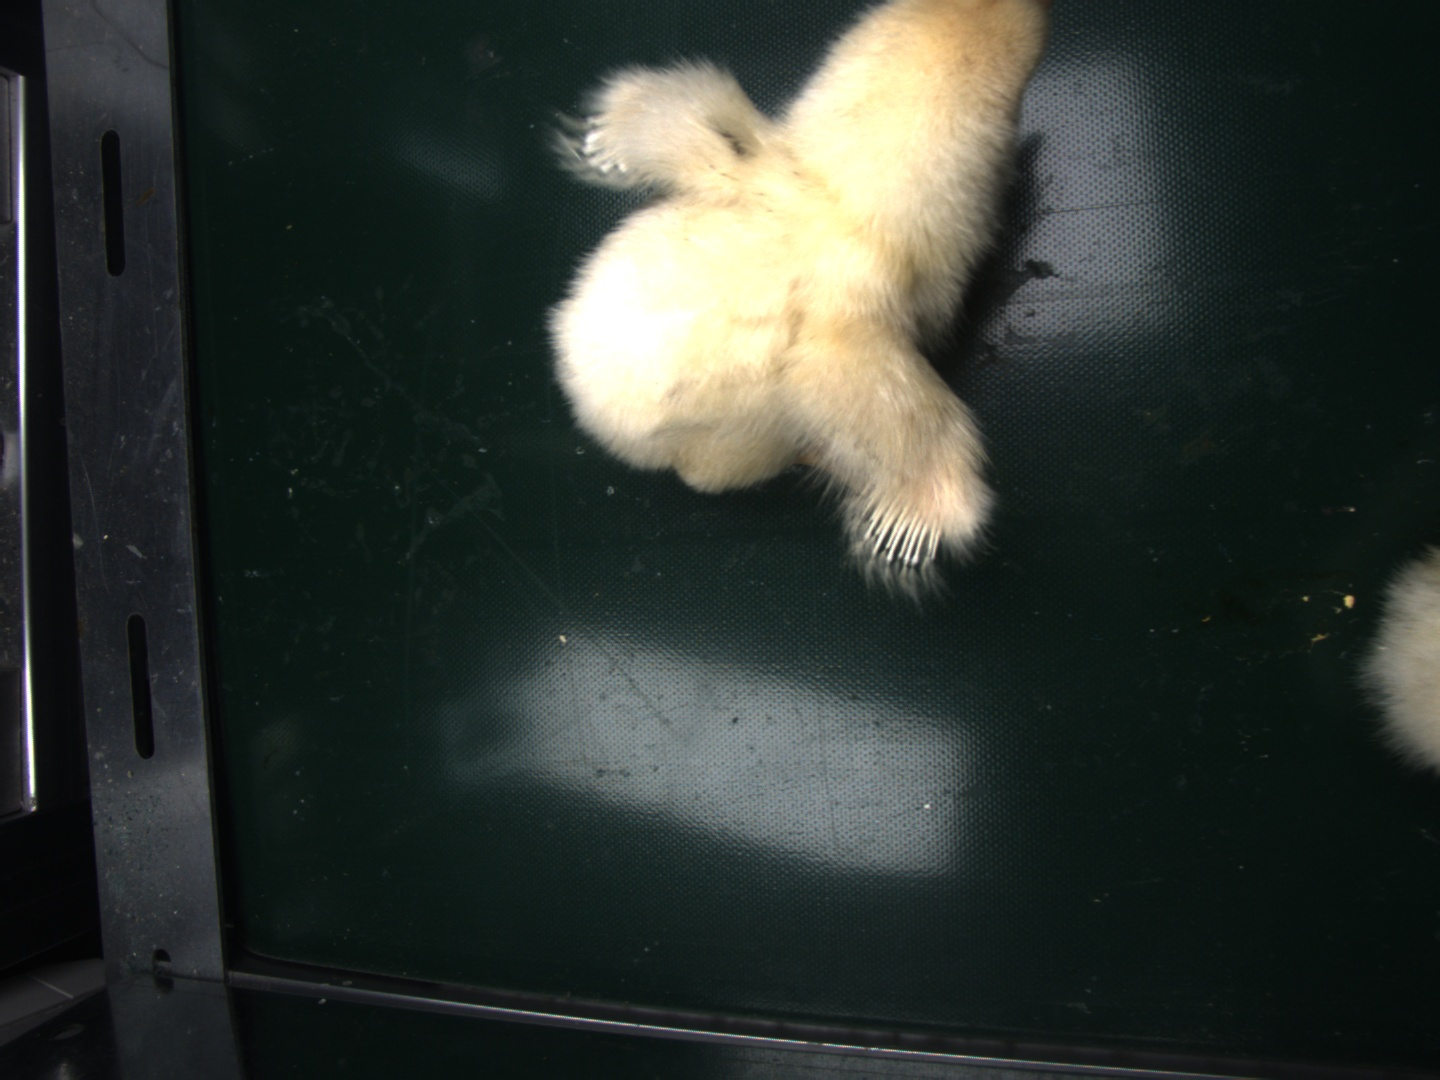male: (859, 490, 941, 564)
